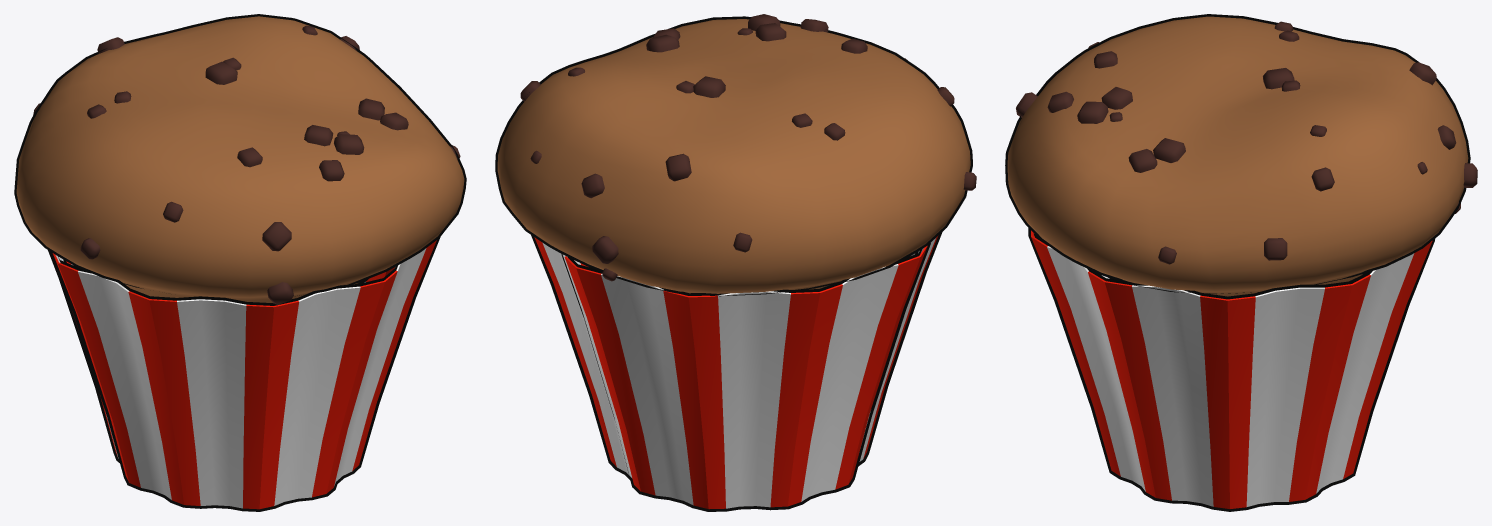
Rendered from muffin.glb.
3 views of the same model, side by side, from view 1: azimuth 30°, elevation 25°; view 2: azimuth 150°, elevation 25°; view 3: azimuth 270°, elevation 25° (orthographic). The views are drawn at different scales.
Visible parts, largest first — view 1: Cube.011, Cylinder.002; view 2: Cube.011, Cylinder.002; view 3: Cube.011, Cylinder.002.
Part boxes in pixels (x1,y1,x2,y2): Cube.011: [14, 14, 466, 304]; Cylinder.002: [48, 237, 440, 511]; Cube.011: [495, 14, 976, 296]; Cylinder.002: [531, 232, 942, 511]; Cube.011: [1005, 14, 1477, 296]; Cylinder.002: [1028, 228, 1434, 511].
Size of what is drawn, in the model's own units: 1.9 by 1.77 by 1.93.
